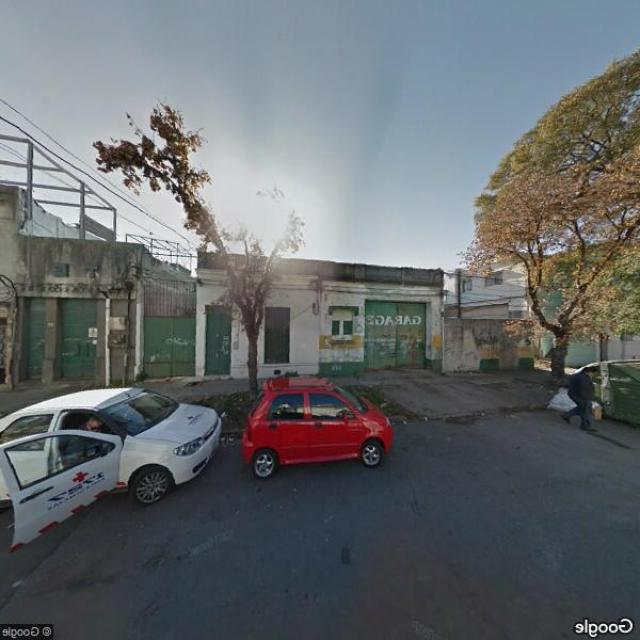garbage container: (549, 353, 639, 431)
